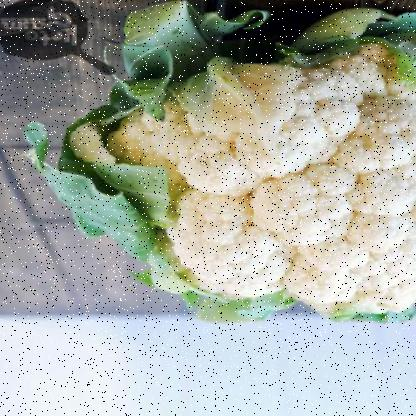cauliflower: (42, 3, 415, 318)
